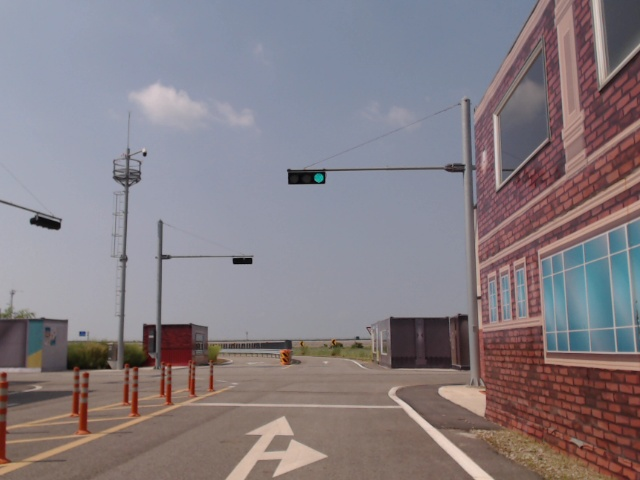green_3: (287, 171, 326, 185)
